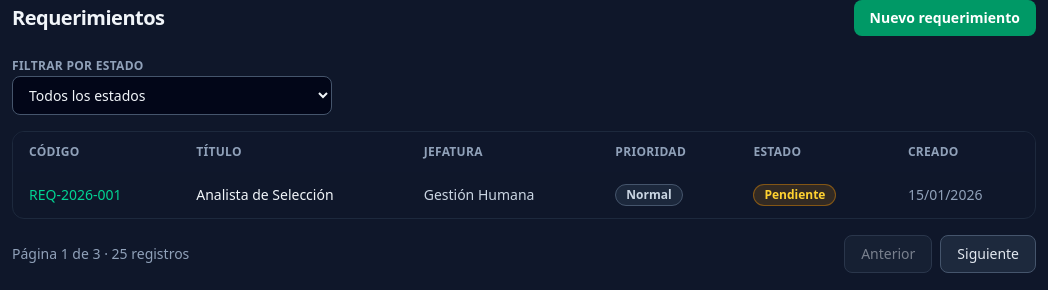
Test: listado de requerimientos › «Siguiente» pide la página 2 y la pinta
The image size is (1048, 290).
Expected: the link "REQ-2026-001" is shown, [29,185,122,204]
Click the button "Siguiente": (988, 254) [940,235,1036,273]
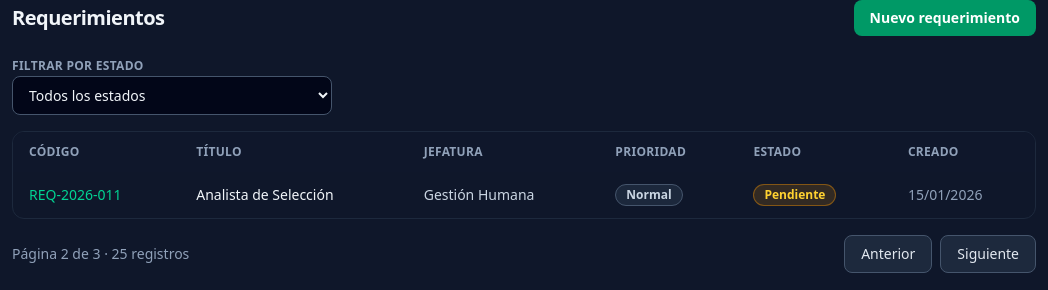
Expected: the link "REQ-2026-011" is shown, [29,185,122,204]
Expected: the text "Página 2 de 3 · 25 registros" is shown, [12,244,189,264]
